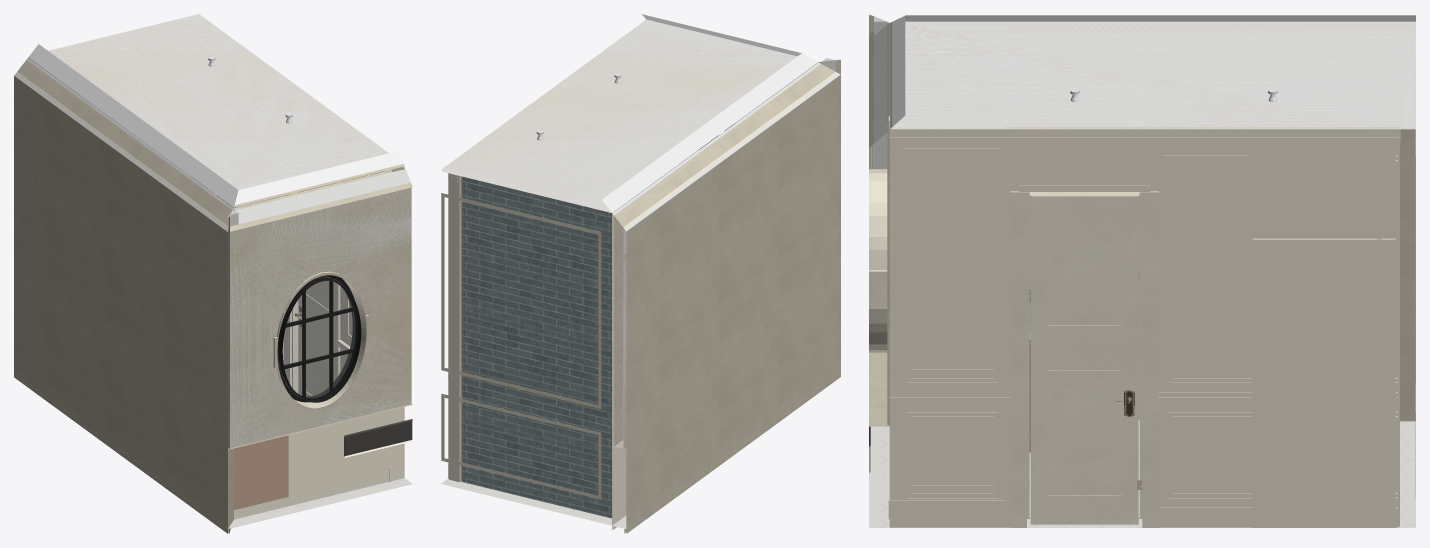
File: blue-bath-ccf5bad1fa44.glb
3 views of the same model, side by side, from view 1: azimuth 30°, elevation 25°; view 2: azimuth 150°, elevation 25°; view 3: azimuth 270°, elevation 25° (orthographic). The views are drawn at different scales.
Visible parts, largest first — view 1: blue-bath-312b4ac1be39223d, blue-bath-bddaf205afbd60c0, blue-bath-e8793759323e04f0, blue-bath-9d91b47435c6fb33, blue-bath-33ee0b466567e5f0, blue-bath-df3e1f21720b0c39, blue-bath-2f7d8eff34a2c180, blue-bath-99b308e00d07c4e6, blue-bath-39b94aca90fa4b53, blue-bath-c700045fb7c0d89d, blue-bath-bb2a37e95c56944b, blue-bath-bf159a19de53e60e (+9 smaller); view 2: blue-bath-312b4ac1be39223d, blue-bath-81319d6284883901, blue-bath-9d91b47435c6fb33, blue-bath-e8793759323e04f0, blue-bath-33ee0b466567e5f0, blue-bath-39b94aca90fa4b53, blue-bath-ed5fdcd3ee9c0dd5, blue-bath-3a4d9d62ecd7be1c, blue-bath-06754748489735a0, blue-bath-6e269356ae8bfd70, blue-bath-b63ee86b16afd4c0, blue-bath-0e16aad907f7d881 (+1 smaller); view 3: blue-bath-9d91b47435c6fb33, blue-bath-ed5fdcd3ee9c0dd5, blue-bath-ead09a0b3f9e3bd9, blue-bath-bf159a19de53e60e, blue-bath-3e649b0d114ae387, blue-bath-e8793759323e04f0, blue-bath-8798d08755b4aa77, blue-bath-8f5d8501f6e548f5, blue-bath-6e269356ae8bfd70, blue-bath-0e16aad907f7d881, blue-bath-d8e4d1e2b1f6ec6c, blue-bath-e55ba151bf6688a8 (+18 smaller).
Part boxes in pixels (bbox=[...]): blue-bath-312b4ac1be39223d: bbox=[14, 73, 229, 449]; blue-bath-bddaf205afbd60c0: bbox=[230, 182, 411, 447]; blue-bath-e8793759323e04f0: bbox=[30, 14, 403, 204]; blue-bath-9d91b47435c6fb33: bbox=[28, 14, 404, 207]; blue-bath-33ee0b466567e5f0: bbox=[14, 293, 228, 533]; blue-bath-df3e1f21720b0c39: bbox=[229, 184, 412, 448]; blue-bath-2f7d8eff34a2c180: bbox=[228, 404, 412, 533]; blue-bath-99b308e00d07c4e6: bbox=[278, 277, 354, 397]; blue-bath-39b94aca90fa4b53: bbox=[17, 60, 238, 226]; blue-bath-c700045fb7c0d89d: bbox=[277, 275, 366, 402]; blue-bath-bb2a37e95c56944b: bbox=[234, 435, 288, 509]; blue-bath-bf159a19de53e60e: bbox=[298, 183, 335, 396]; blue-bath-312b4ac1be39223d: bbox=[624, 59, 840, 449]; blue-bath-81319d6284883901: bbox=[462, 177, 611, 518]; blue-bath-9d91b47435c6fb33: bbox=[441, 19, 817, 212]; blue-bath-e8793759323e04f0: bbox=[442, 14, 815, 210]; blue-bath-33ee0b466567e5f0: bbox=[612, 293, 840, 533]; blue-bath-39b94aca90fa4b53: bbox=[614, 58, 835, 447]; blue-bath-ed5fdcd3ee9c0dd5: bbox=[449, 173, 460, 482]; blue-bath-3a4d9d62ecd7be1c: bbox=[612, 61, 821, 446]; blue-bath-06754748489735a0: bbox=[441, 193, 601, 408]; blue-bath-6e269356ae8bfd70: bbox=[441, 170, 618, 524]; blue-bath-b63ee86b16afd4c0: bbox=[441, 393, 601, 499]; blue-bath-0e16aad907f7d881: bbox=[441, 478, 626, 528]; blue-bath-9d91b47435c6fb33: bbox=[890, 21, 1415, 129]; blue-bath-ed5fdcd3ee9c0dd5: bbox=[1005, 127, 1399, 526]; blue-bath-ead09a0b3f9e3bd9: bbox=[1252, 238, 1395, 527]; blue-bath-bf159a19de53e60e: bbox=[1030, 195, 1138, 524]; blue-bath-3e649b0d114ae387: bbox=[889, 121, 1005, 499]; blue-bath-e8793759323e04f0: bbox=[892, 15, 1415, 126]; blue-bath-8798d08755b4aa77: bbox=[1010, 191, 1158, 527]; blue-bath-8f5d8501f6e548f5: bbox=[889, 129, 1398, 146]; blue-bath-6e269356ae8bfd70: bbox=[1398, 127, 1415, 527]; blue-bath-0e16aad907f7d881: bbox=[869, 421, 1415, 527]; blue-bath-d8e4d1e2b1f6ec6c: bbox=[906, 156, 998, 382]; blue-bath-e55ba151bf6688a8: bbox=[869, 169, 887, 352].
Bounding box in the file's own units: 1.8 × 3.04 × 3.6.
34 materials, 6 textured.
